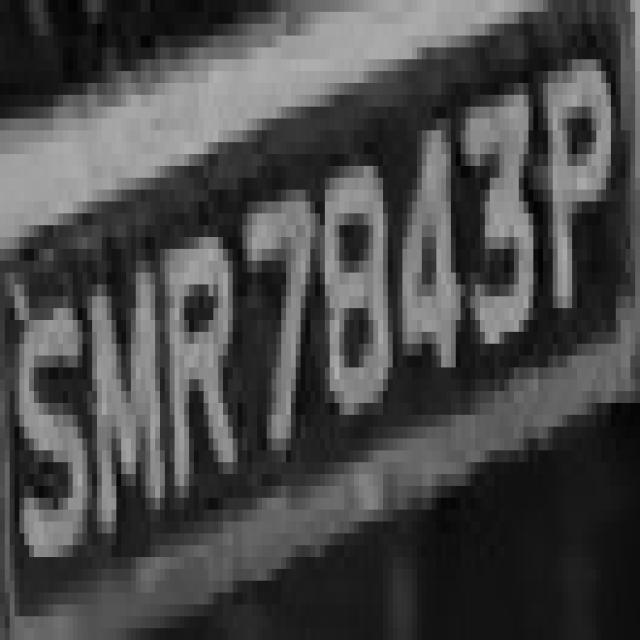3: (451, 59, 533, 391)
4: (368, 83, 461, 403)
7: (242, 166, 306, 510)
8: (305, 118, 393, 426)
M: (87, 225, 170, 510)
P: (528, 35, 620, 344)
R: (170, 202, 247, 509)
S: (19, 261, 97, 557)
